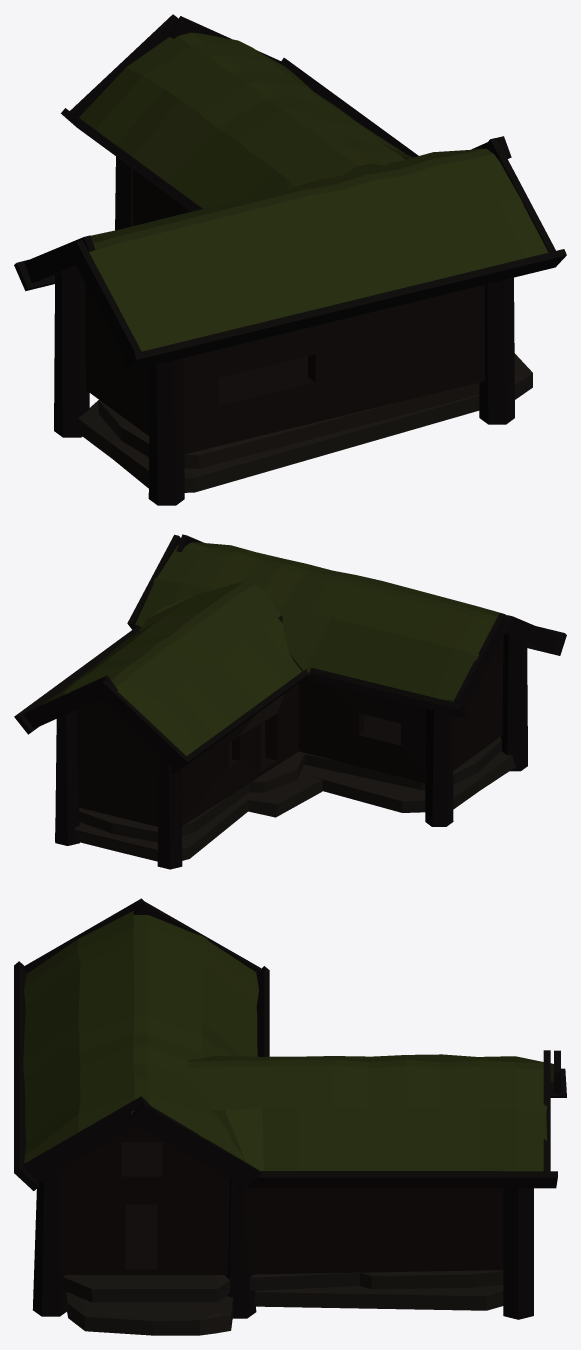
The model's file is Village_SodHouse_5.fbx.
3 renders of one model, top to bottom at view 1: azimuth 30°, elevation 25°; view 2: azimuth 150°, elevation 25°; view 3: azimuth 270°, elevation 25°, orthographic. The views are drawn at different scales.
Parts seen in each view (by area): view 1: Village_SodHouse_5; view 2: Village_SodHouse_5; view 3: Village_SodHouse_5.
Boxes of the visible parts, bbox=[...] form: Village_SodHouse_5: bbox=[14, 14, 566, 505]; Village_SodHouse_5: bbox=[14, 534, 566, 869]; Village_SodHouse_5: bbox=[14, 898, 566, 1335].
Bounding box in the file's own units: 1353 × 694 × 1482.
